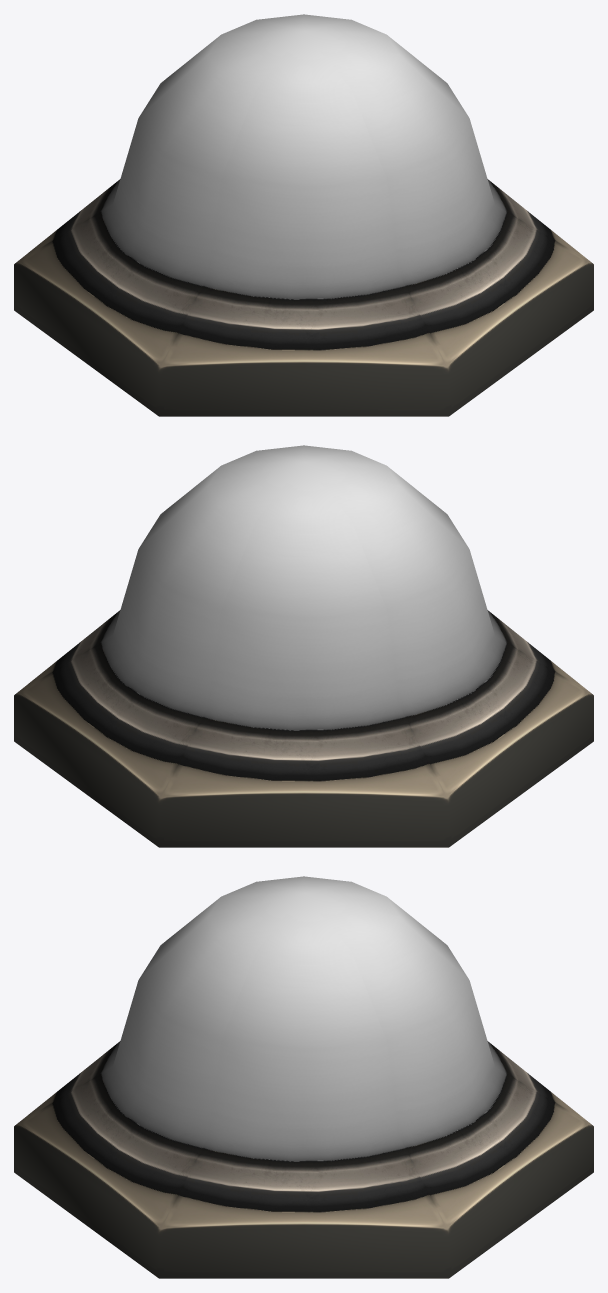
The model's file is led.dae.
The picture shows the model from 3 angles, top to bottom: view 1: azimuth 30°, elevation 25°; view 2: azimuth 150°, elevation 25°; view 3: azimuth 270°, elevation 25°; orthographic projection.
Parts seen in each view (by area): view 1: LEDIndicator; view 2: LEDIndicator; view 3: LEDIndicator.
Part boxes in pixels (x1,y1,x2,y2): LEDIndicator: [14, 14, 593, 416]; LEDIndicator: [14, 445, 593, 847]; LEDIndicator: [14, 876, 593, 1278].
Size of the model in its own units: 0.036 by 0.0416 by 0.0221.
1 material, 1 textured.
